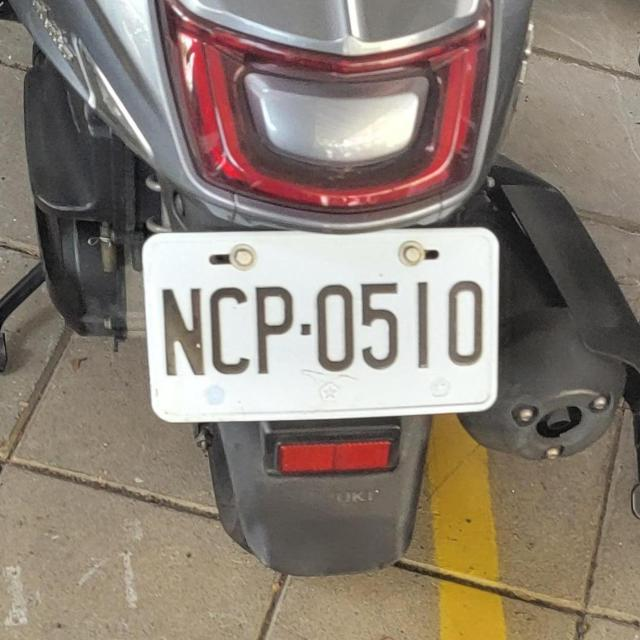W: (128, 208, 511, 434)
